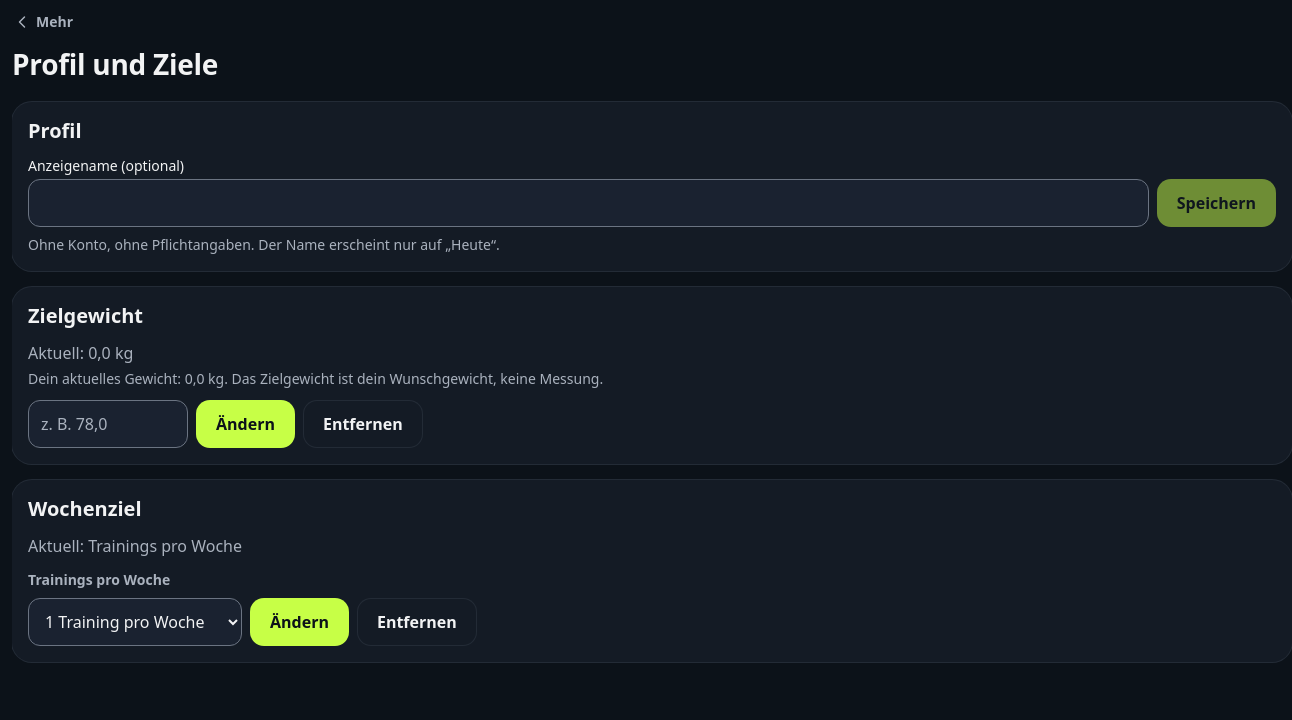
Scenario: Profil und Ziele (S-33, AK-SET-01, AK-SET-05) › speichert den optionalen Anzeigenamen
The width and height of the screenshot is (1292, 720).
Expected: the button "Speichern" is disabled, [1157,179,1276,227]
Type "Dali" into the field labelled "Anzeigename (optional)". click: (588, 203)
box: [28,179,1149,227]
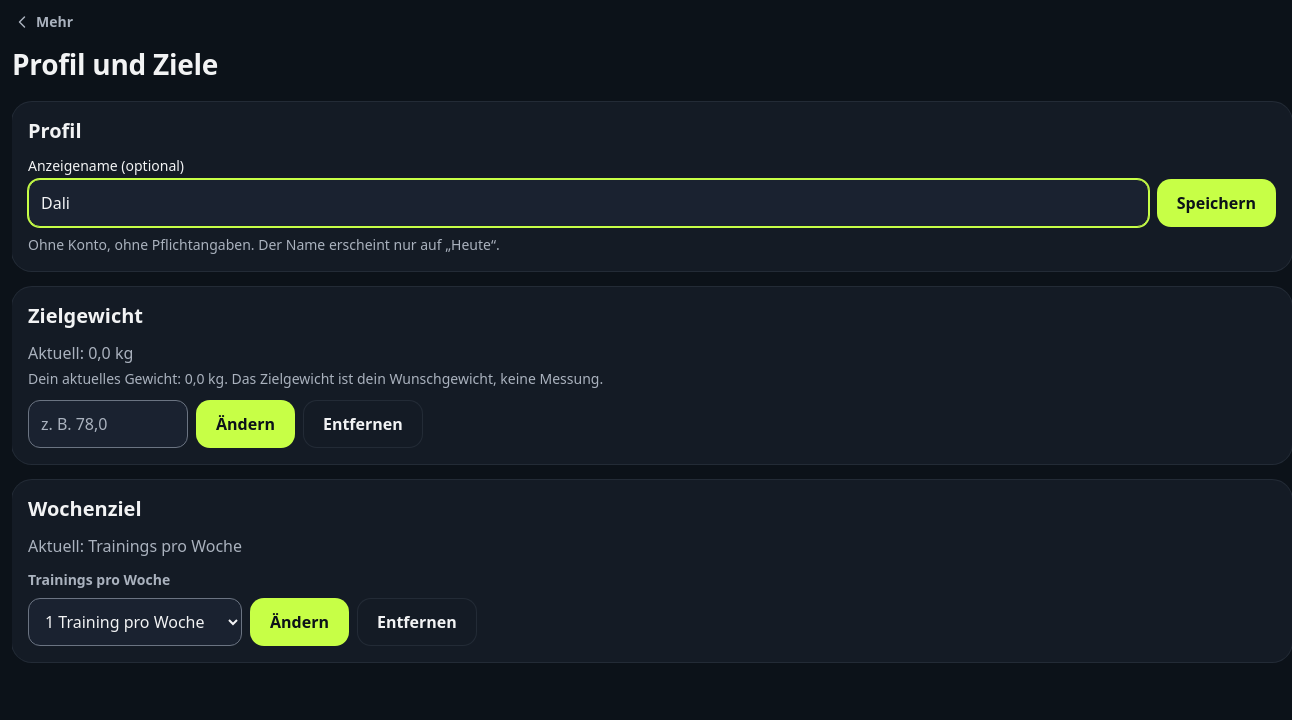
Click the button "Speichern". click: (1216, 203)
box: [1157,179,1276,227]
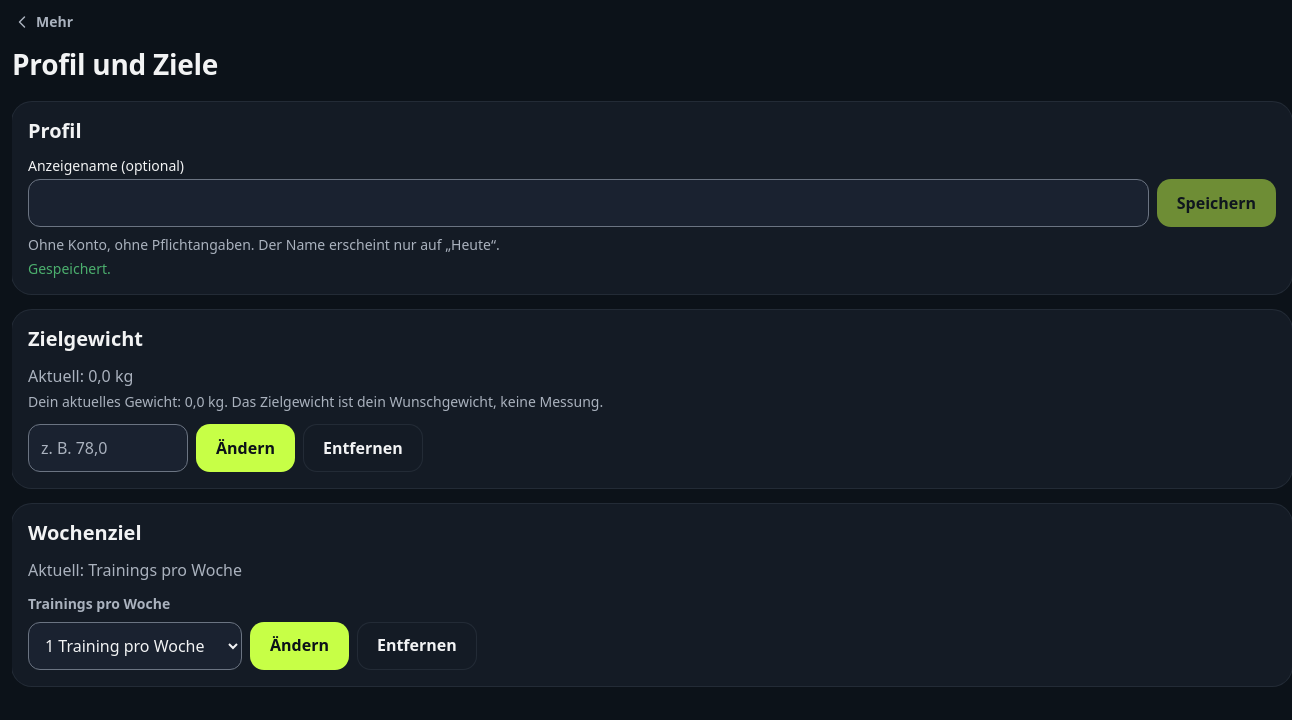
Result: the message reads "Gespeichert." at [28,259,111,278]
